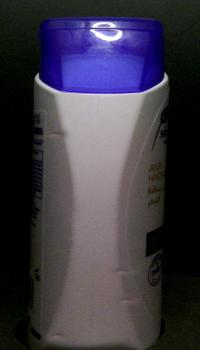dent_marginal: (38, 324, 78, 345), (111, 288, 146, 310), (108, 258, 139, 278), (46, 124, 74, 144)
